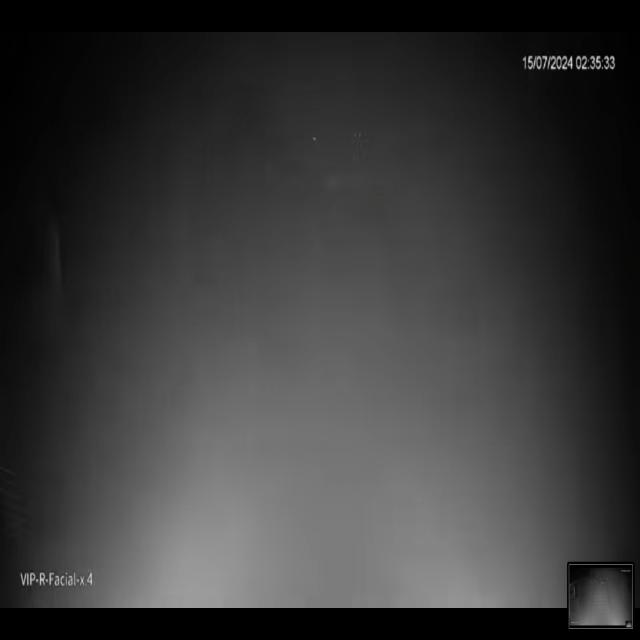Atencao: (62, 86, 552, 600)
